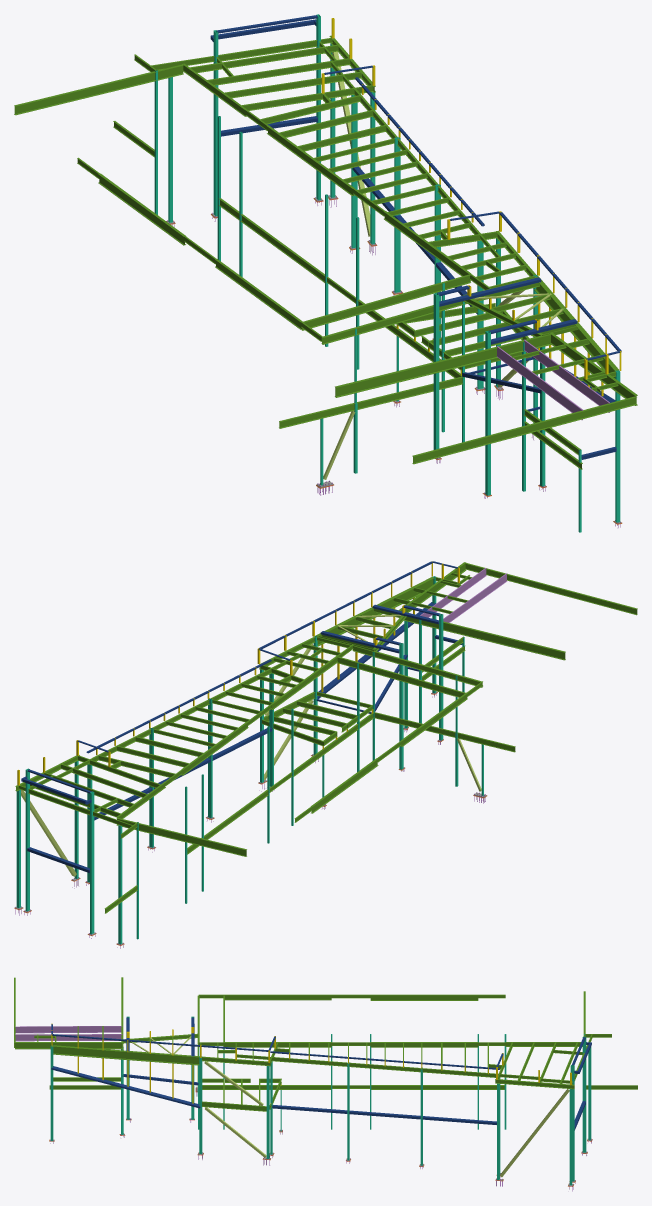
The model's file is 26-46 Prelim.glb.
The picture shows the model from 3 angles, top to bottom: view 1: azimuth 30°, elevation 25°; view 2: azimuth 150°, elevation 25°; view 3: azimuth 270°, elevation 25°; orthographic projection. The views are drawn at different scales.
Parts seen in each view (by area): view 1: Mesh 4397, Mesh 4086, Mesh 4577, Mesh 4595, Mesh 2841, Mesh 4635, Mesh 5172, Mesh 5559, Mesh 4547, Mesh 5573, Mesh 10959, Mesh 4052 (+15 smaller); view 2: Mesh 4397, Mesh 4086, Mesh 4577, Mesh 5172, Mesh 4595, Mesh 2841, Mesh 4635, Mesh 11424, Mesh 11432, Mesh 4547, Mesh 11488, Mesh 4052 (+5 smaller); view 3: Mesh 5172, Mesh 4052, Mesh 4547, Mesh 4622, Mesh 4413, Mesh 5760, Mesh 4688, Mesh 4069, Mesh 4710, Mesh 4890, Mesh 11424, Mesh 4844 (+17 smaller).
Part boxes in pixels (<box>): Mesh 4397: <box>335,334,551,397</box>; Mesh 4086: <box>412,396,636,464</box>; Mesh 4577: <box>14,64,183,115</box>; Mesh 4595: <box>301,274,470,330</box>; Mesh 2841: <box>279,376,463,428</box>; Mesh 4635: <box>321,301,467,344</box>; Mesh 5172: <box>534,276,618,378</box>; Mesh 5559: <box>190,44,338,72</box>; Mesh 4547: <box>98,173,185,245</box>; Mesh 5573: <box>207,58,350,85</box>; Mesh 10959: <box>433,293,439,449</box>; Mesh 4052: <box>496,346,582,420</box>; Mesh 4397: <box>404,616,565,660</box>; Mesh 4086: <box>465,563,637,615</box>; Mesh 4577: <box>116,818,246,856</box>; Mesh 5172: <box>315,577,434,646</box>; Mesh 4595: <box>337,656,465,697</box>; Mesh 2841: <box>374,712,515,752</box>; Mesh 4635: <box>352,645,482,687</box>; Mesh 11424: <box>90,791,94,934</box>; Mesh 11432: <box>25,768,29,911</box>; Mesh 4547: <box>311,758,378,813</box>; Mesh 11488: <box>16,789,20,907</box>; Mesh 4052: <box>443,573,507,622</box>; Mesh 5172: <box>53,1045,199,1065</box>; Mesh 4052: <box>15,1026,122,1033</box>; Mesh 4547: <box>370,994,478,1000</box>; Mesh 4622: <box>224,994,331,1000</box>; Mesh 4413: <box>15,1042,122,1049</box>; Mesh 5760: <box>51,1066,200,1108</box>; Mesh 4688: <box>370,1042,478,1047</box>; Mesh 4069: <box>15,1034,122,1041</box>; Mesh 4710: <box>224,1042,331,1047</box>; Mesh 4890: <box>371,1085,477,1089</box>; Mesh 11424: <box>582,1036,586,1152</box>; Mesh 4844: <box>224,1085,331,1089</box>.
Size of the model in its own units: 22.82 by 11.56 by 53.49.
